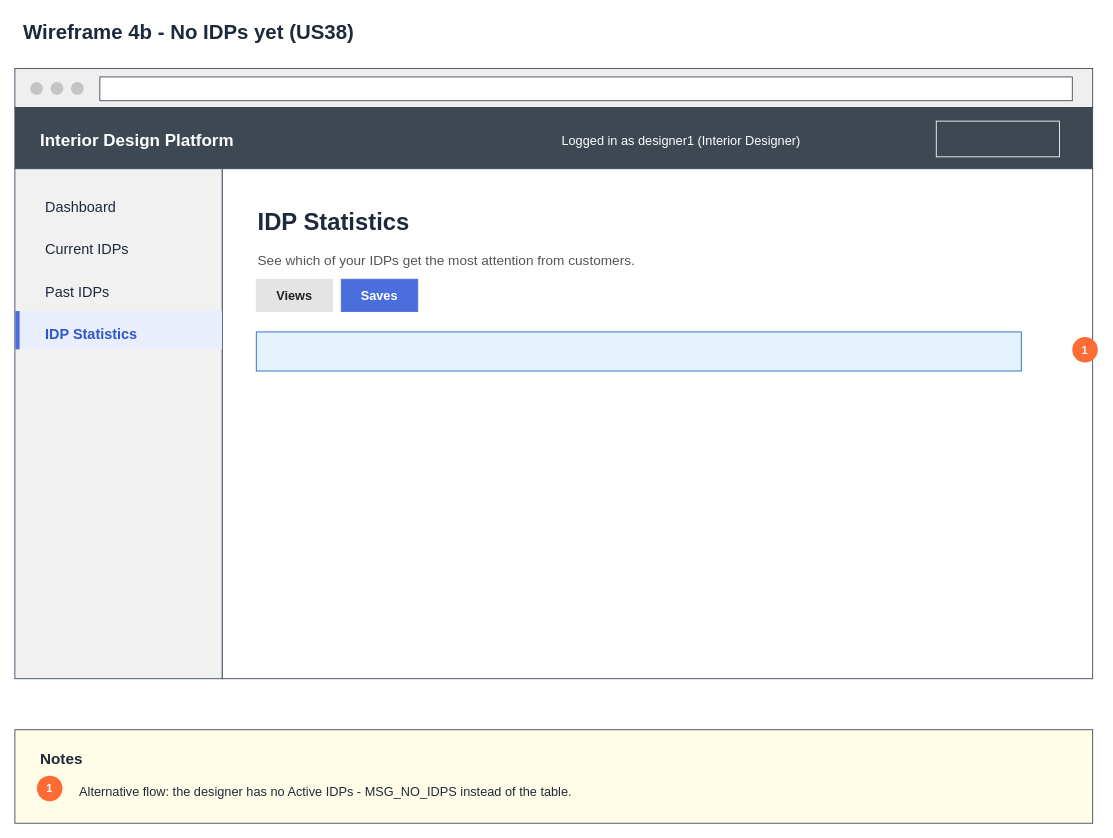
This 1113x838 diagram has some shape labels left out. Here are the shapes that lost their labels. From the top down, the centre of each, then its label:
At (x=585, y=88): "localhost:5000/designer/idps/statistics/saves".
At (x=997, y=138): "Log out".
At (x=638, y=351): "ℹ You don't have any active IDPs yet, so there are no saves to show".
